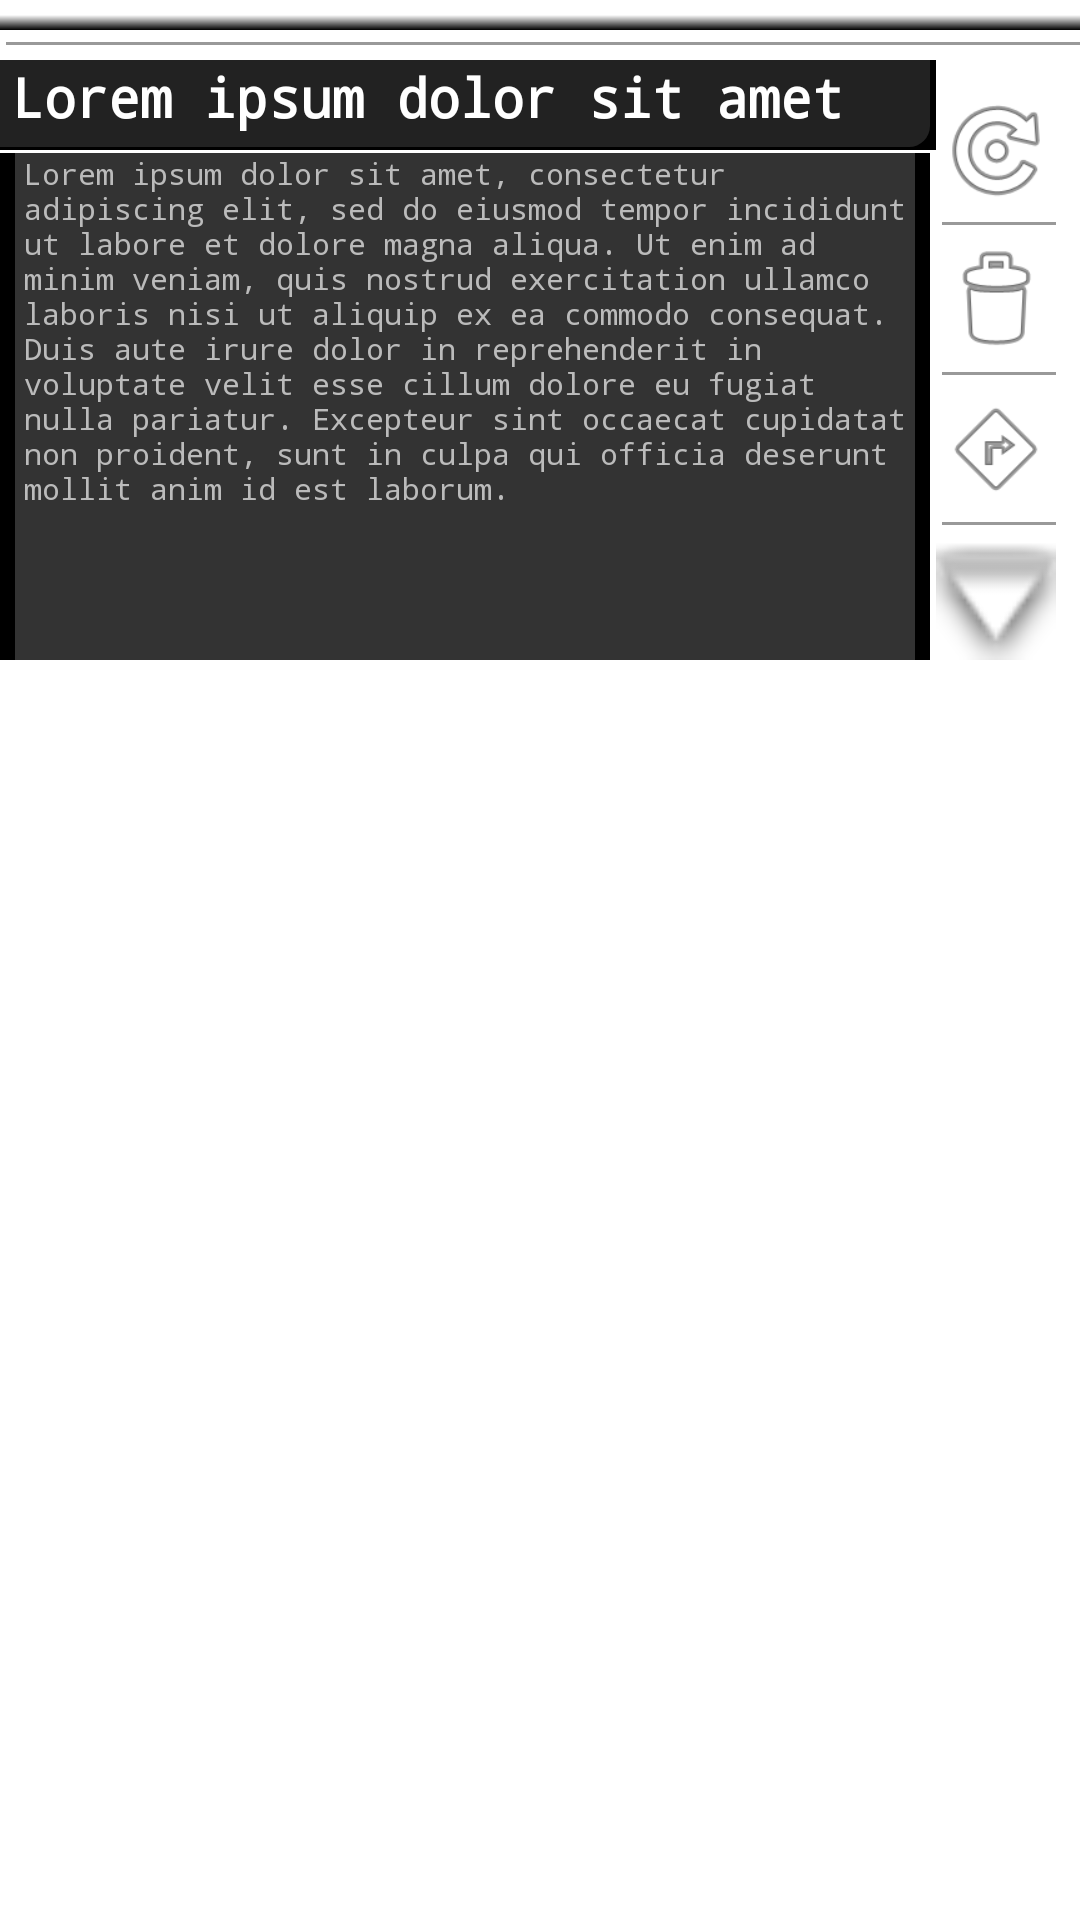

Locate icon controls on the screen. Image size 1080x1920, boxes as (x1, y1, x2, y2).
arrow down float: (936, 547, 1056, 657)
delete: (963, 251, 1031, 345)
directions: (955, 408, 1037, 490)
rotate: (952, 106, 1040, 196)
